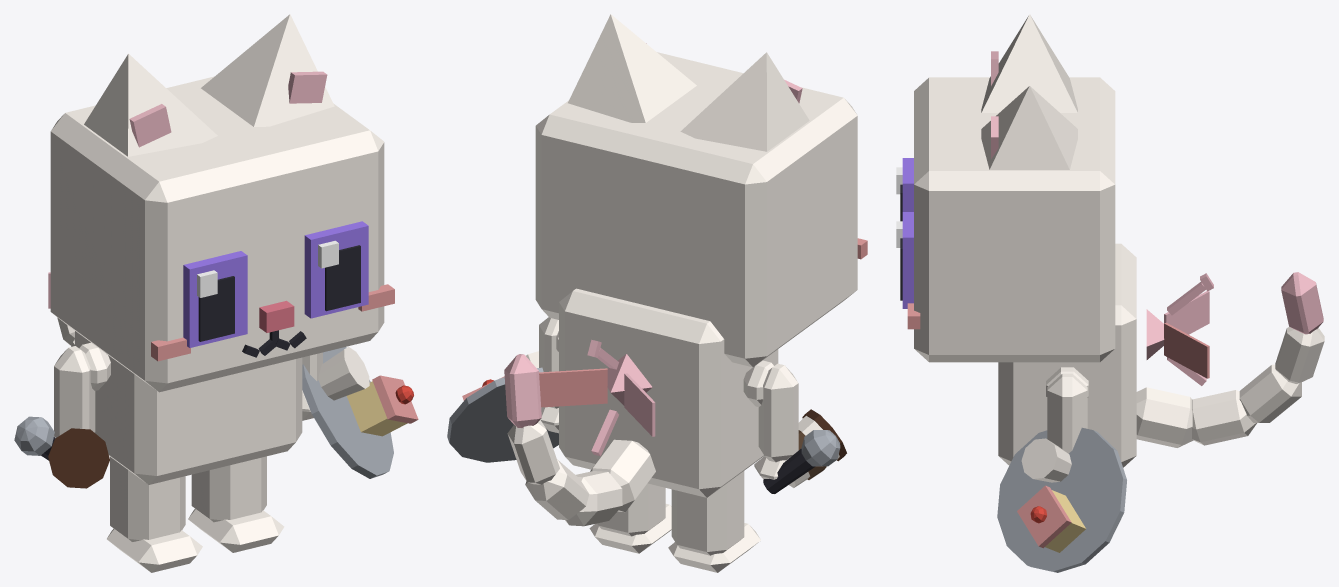
Rendered from CatCafe_Cat_Origami_Work.glb.
3 views of the same model, side by side, from view 1: azimuth 30°, elevation 25°; view 2: azimuth 150°, elevation 25°; view 3: azimuth 270°, elevation 25° (orthographic). The views are drawn at different scales.
Visible parts, largest first — view 1: CatCafe_Cat_Origami_Work_Head, CatCafe_Cat_Origami_Work_Body, CatCafe_Cat_Origami_Work_Held_Waiter, CatCafe_Cat_Origami_Work_EarL, CatCafe_Cat_Origami_Work_EarR, CatCafe_Cat_Origami_Work_LegB2, CatCafe_Cat_Origami_Work_LegB1, CatCafe_Cat_Origami_Work_Eye1, CatCafe_Cat_Origami_Work_Eye2, CatCafe_Cat_Origami_Work_LegF2, CatCafe_Cat_Origami_Work_Held_Barista, CatCafe_Cat_Origami_Work_Held_Entertainer (+1 smaller); view 2: CatCafe_Cat_Origami_Work_Head, CatCafe_Cat_Origami_Work_Body, CatCafe_Cat_Origami_Work_Tail, CatCafe_Cat_Origami_Work_EarL, CatCafe_Cat_Origami_Work_EarR, CatCafe_Cat_Origami_Work_LegB2, CatCafe_Cat_Origami_Work_Prop, CatCafe_Cat_Origami_Work_Held_Waiter, CatCafe_Cat_Origami_Work_LegF2, CatCafe_Cat_Origami_Work_LegB1, CatCafe_Cat_Origami_Work_Held_Entertainer, CatCafe_Cat_Origami_Work_LegF1 (+1 smaller); view 3: CatCafe_Cat_Origami_Work_Head, CatCafe_Cat_Origami_Work_Held_Waiter, CatCafe_Cat_Origami_Work_Tail, CatCafe_Cat_Origami_Work_Body, CatCafe_Cat_Origami_Work_EarL, CatCafe_Cat_Origami_Work_EarR, CatCafe_Cat_Origami_Work_Prop, CatCafe_Cat_Origami_Work_LegF1, CatCafe_Cat_Origami_Work_Eye1, CatCafe_Cat_Origami_Work_Eye2.
Boxes of the visible parts, box(x1,y1,x2,y2) form: CatCafe_Cat_Origami_Work_Head: box(50, 76, 394, 392); CatCafe_Cat_Origami_Work_Body: box(75, 331, 302, 484); CatCafe_Cat_Origami_Work_Held_Waiter: box(302, 346, 418, 478); CatCafe_Cat_Origami_Work_EarL: box(201, 14, 334, 126); CatCafe_Cat_Origami_Work_EarR: box(84, 53, 217, 156); CatCafe_Cat_Origami_Work_LegB2: box(107, 457, 202, 572); CatCafe_Cat_Origami_Work_LegB1: box(188, 456, 284, 552); CatCafe_Cat_Origami_Work_Eye1: box(304, 221, 368, 318); CatCafe_Cat_Origami_Work_Eye2: box(183, 251, 247, 347); CatCafe_Cat_Origami_Work_LegF2: box(54, 346, 95, 437); CatCafe_Cat_Origami_Work_Held_Barista: box(48, 428, 109, 488); CatCafe_Cat_Origami_Work_Held_Entertainer: box(14, 416, 55, 460); CatCafe_Cat_Origami_Work_Head: box(535, 52, 867, 367); CatCafe_Cat_Origami_Work_Body: box(556, 288, 778, 497); CatCafe_Cat_Origami_Work_Tail: box(504, 354, 655, 526); CatCafe_Cat_Origami_Work_EarL: box(568, 14, 696, 122); CatCafe_Cat_Origami_Work_EarR: box(680, 52, 809, 151); CatCafe_Cat_Origami_Work_LegB2: box(668, 471, 760, 572); CatCafe_Cat_Origami_Work_Prop: box(539, 339, 655, 456); CatCafe_Cat_Origami_Work_Held_Waiter: box(447, 351, 558, 462); CatCafe_Cat_Origami_Work_LegF2: box(754, 363, 798, 479); CatCafe_Cat_Origami_Work_LegB1: box(589, 483, 671, 553); CatCafe_Cat_Origami_Work_Held_Entertainer: box(763, 430, 840, 493); CatCafe_Cat_Origami_Work_LegF1: box(539, 317, 558, 433); CatCafe_Cat_Origami_Work_Head: box(907, 77, 1115, 362); CatCafe_Cat_Origami_Work_Held_Waiter: box(997, 427, 1126, 572); CatCafe_Cat_Origami_Work_Tail: box(1136, 272, 1324, 447); CatCafe_Cat_Origami_Work_Body: box(998, 243, 1136, 467); CatCafe_Cat_Origami_Work_EarL: box(981, 86, 1077, 169); CatCafe_Cat_Origami_Work_EarR: box(981, 14, 1077, 112); CatCafe_Cat_Origami_Work_Prop: box(1146, 273, 1213, 385); CatCafe_Cat_Origami_Work_LegF1: box(1047, 373, 1087, 453); CatCafe_Cat_Origami_Work_Eye1: box(896, 212, 913, 308); CatCafe_Cat_Origami_Work_Eye2: box(896, 158, 913, 221).
Bounding box in the file's own units: 1.53 × 1.98 × 1.62.
Materials: 1 (1 with a texture image).
